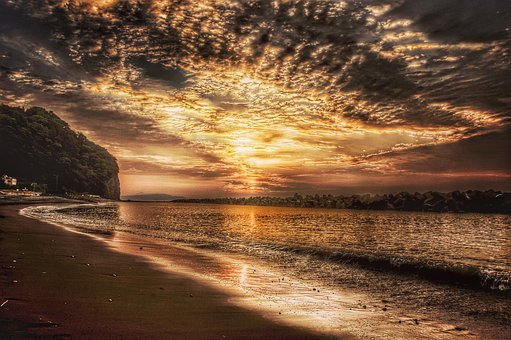beach: (13, 190, 495, 340)
sky: (10, 6, 505, 193)
